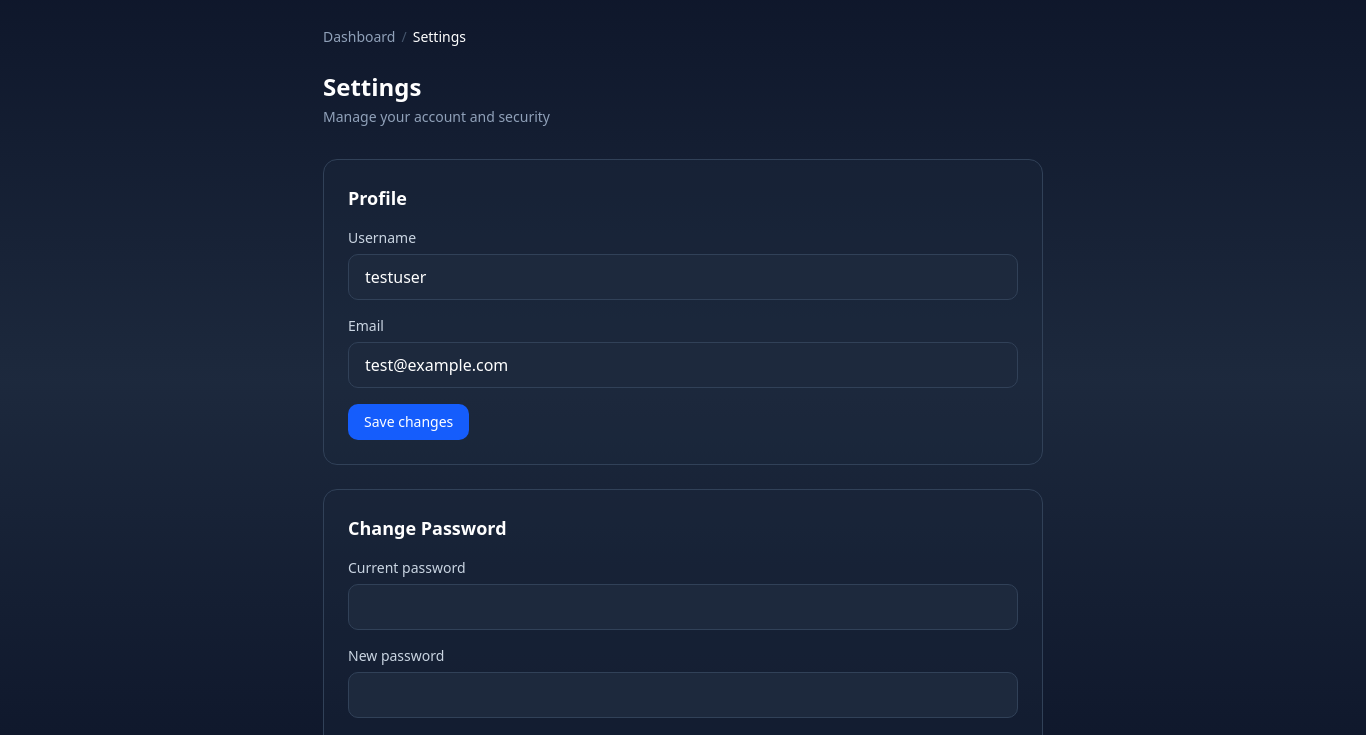
Test case: SettingsPage › shows error when passwords do not match
The image size is (1366, 735).
Expected: the field showing "testuser" below "Username" is shown, [348,254,1018,300]
Type "oldpassword" into the password field below "Current password" at (683, 607), box [348,584,1018,630]
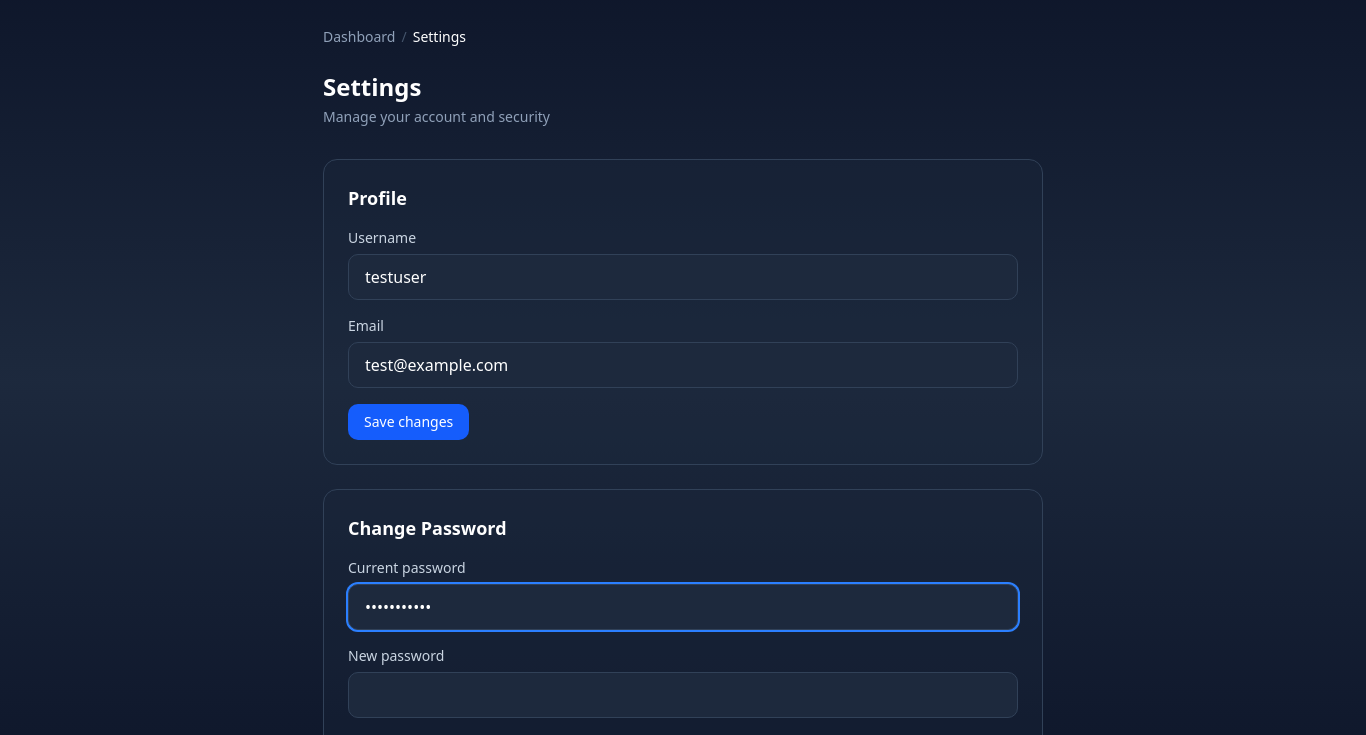
Type "password123" into the 2nd password field at (683, 695), box [348,672,1018,718]
(page scrolled)
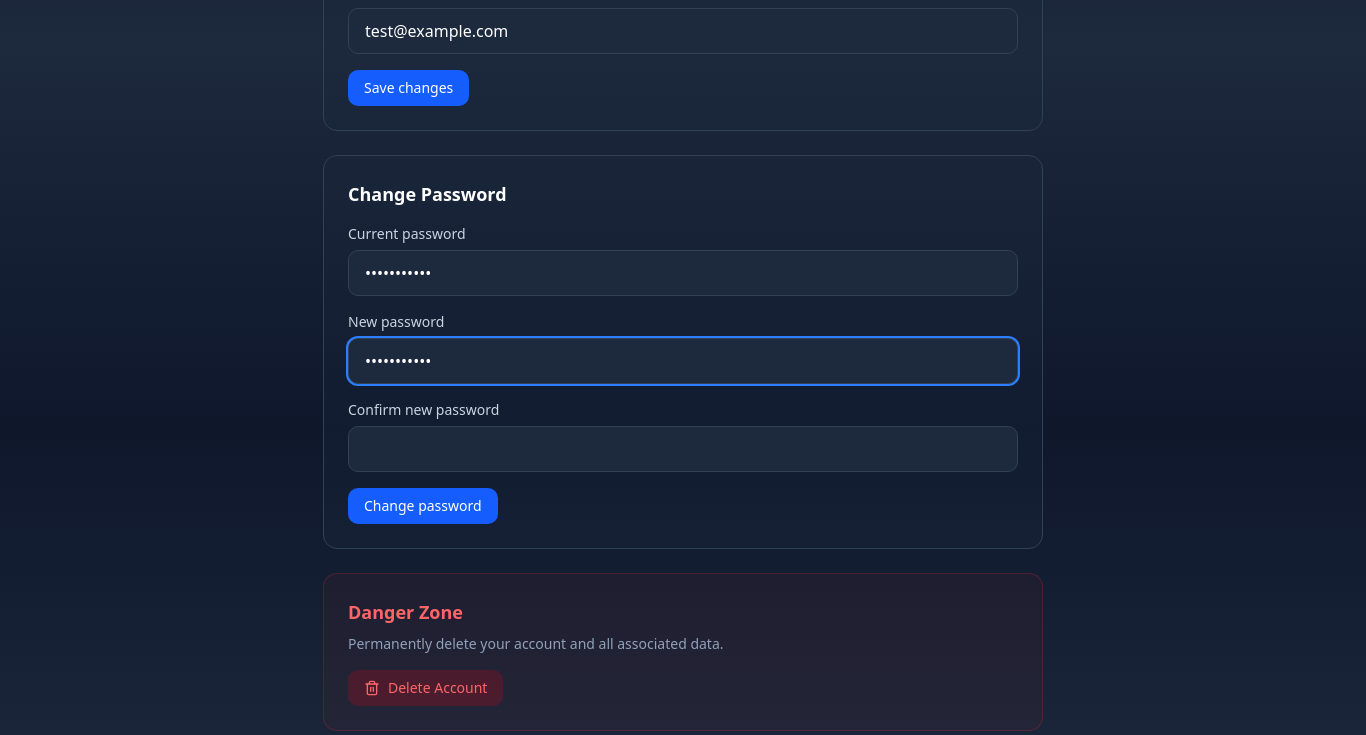
Type "different123" into the password field below "Confirm new password" at (683, 449), box [348,426,1018,472]
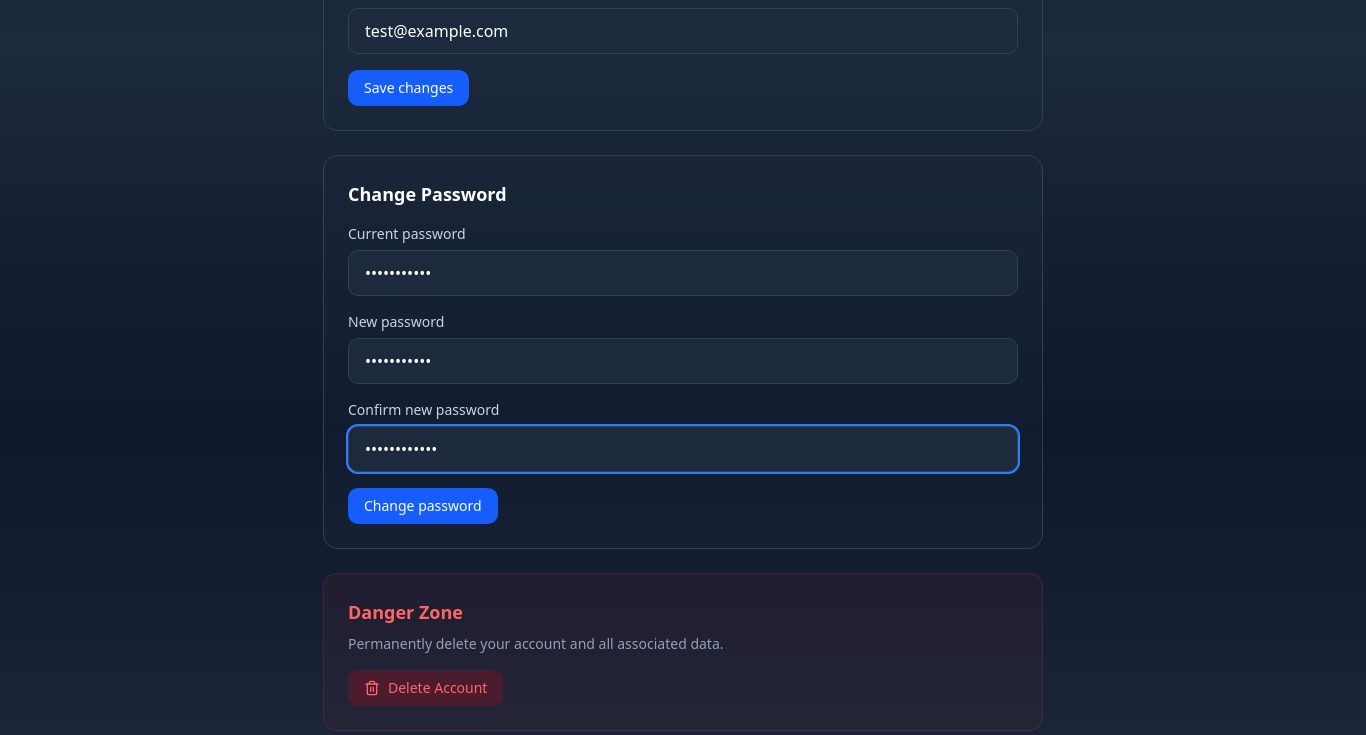
Click the button "Change password" at (423, 506), box [348,488,498,524]
(page scrolled)
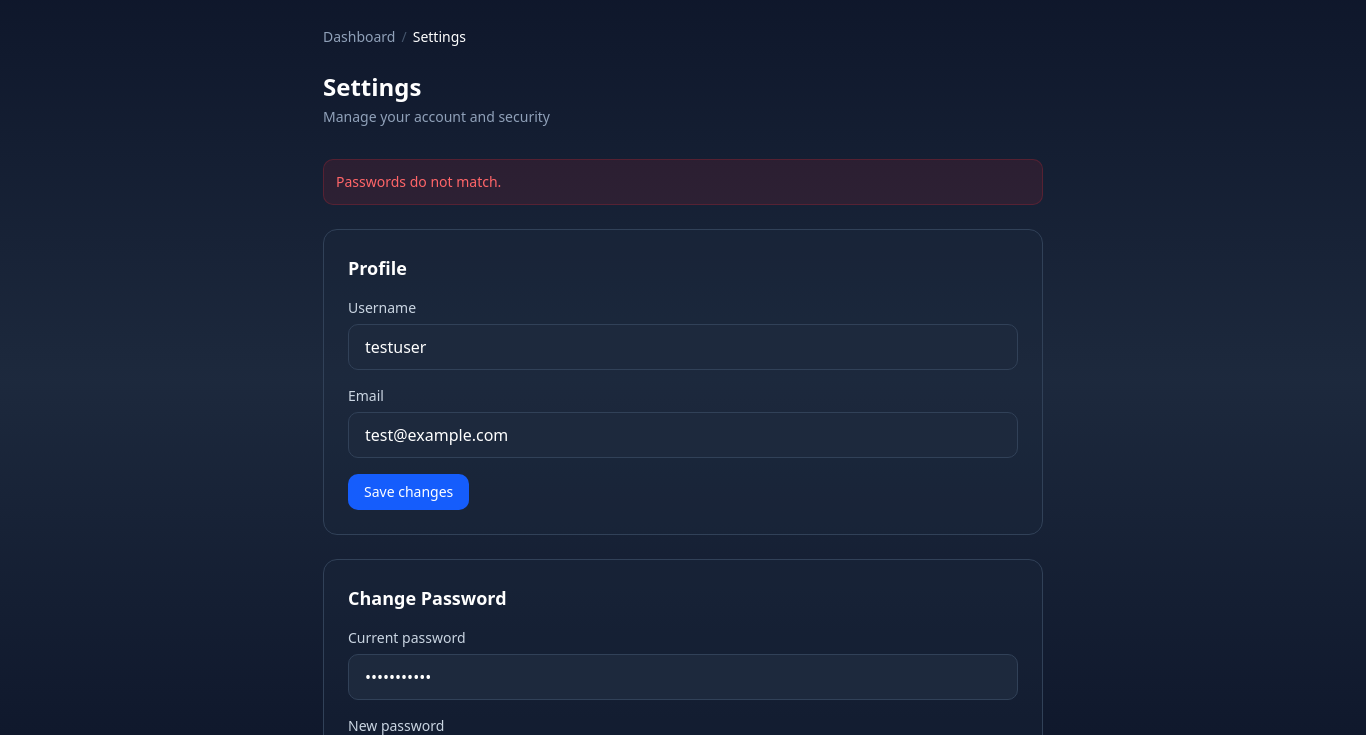
Expected: the text "Passwords do not match." is shown, [323,159,1043,205]
